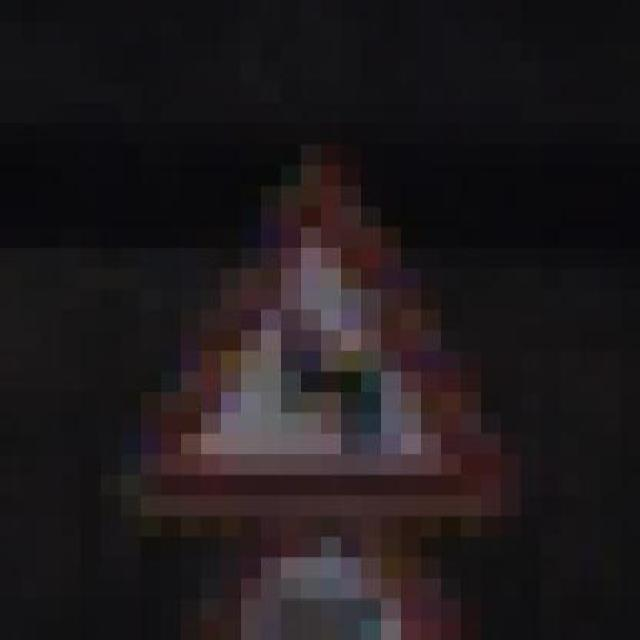Left Zig Zag Traffic: (100, 166, 500, 516)
